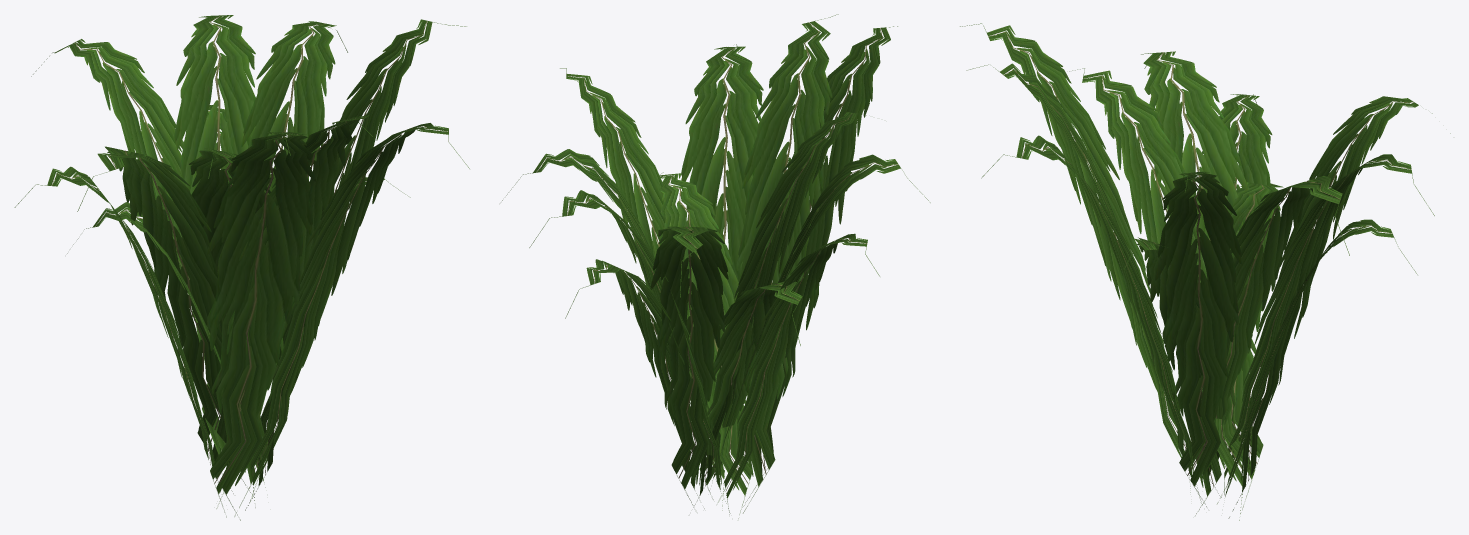
File: nipah.glb
3 views of the same model, side by side, from view 1: azimuth 30°, elevation 25°; view 2: azimuth 150°, elevation 25°; view 3: azimuth 270°, elevation 25° (orthographic). The views are drawn at different scales.
Parts seen in each view (by area): view 1: nipah_daun_nipah; view 2: nipah_daun_nipah; view 3: nipah_daun_nipah.
Part boxes in pixels (box(x1,y1,x2,y2)): nipah_daun_nipah: box(14, 15, 469, 520); nipah_daun_nipah: box(502, 14, 930, 518); nipah_daun_nipah: box(960, 23, 1450, 520).
Size of the model in its own units: 4.71 by 5.23 by 5.22.
Materials: 1 (1 with a texture image).
